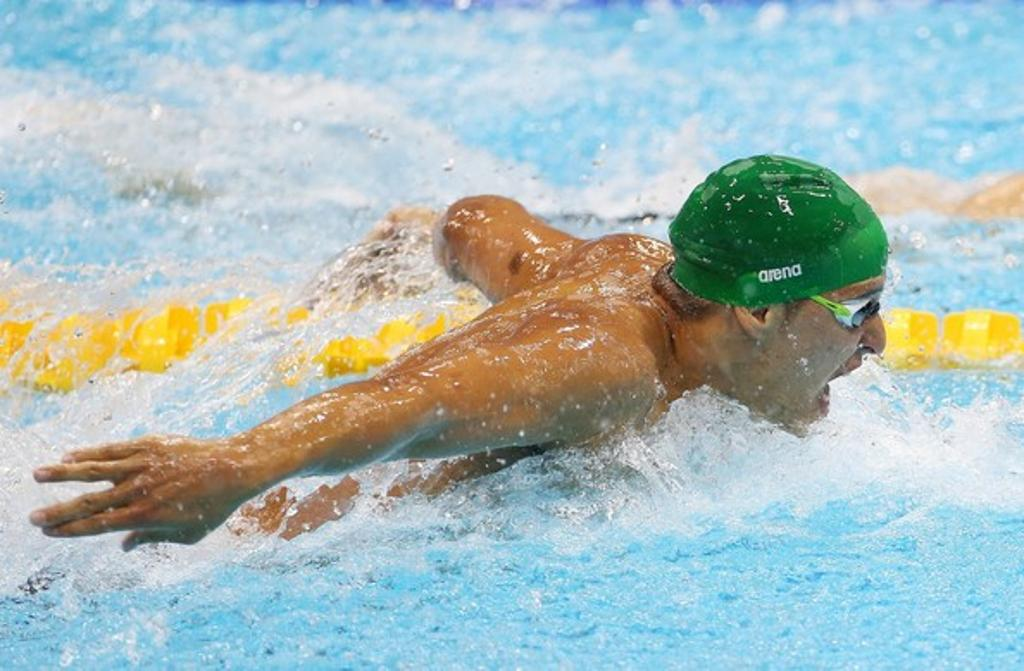face: (793, 237, 889, 437)
